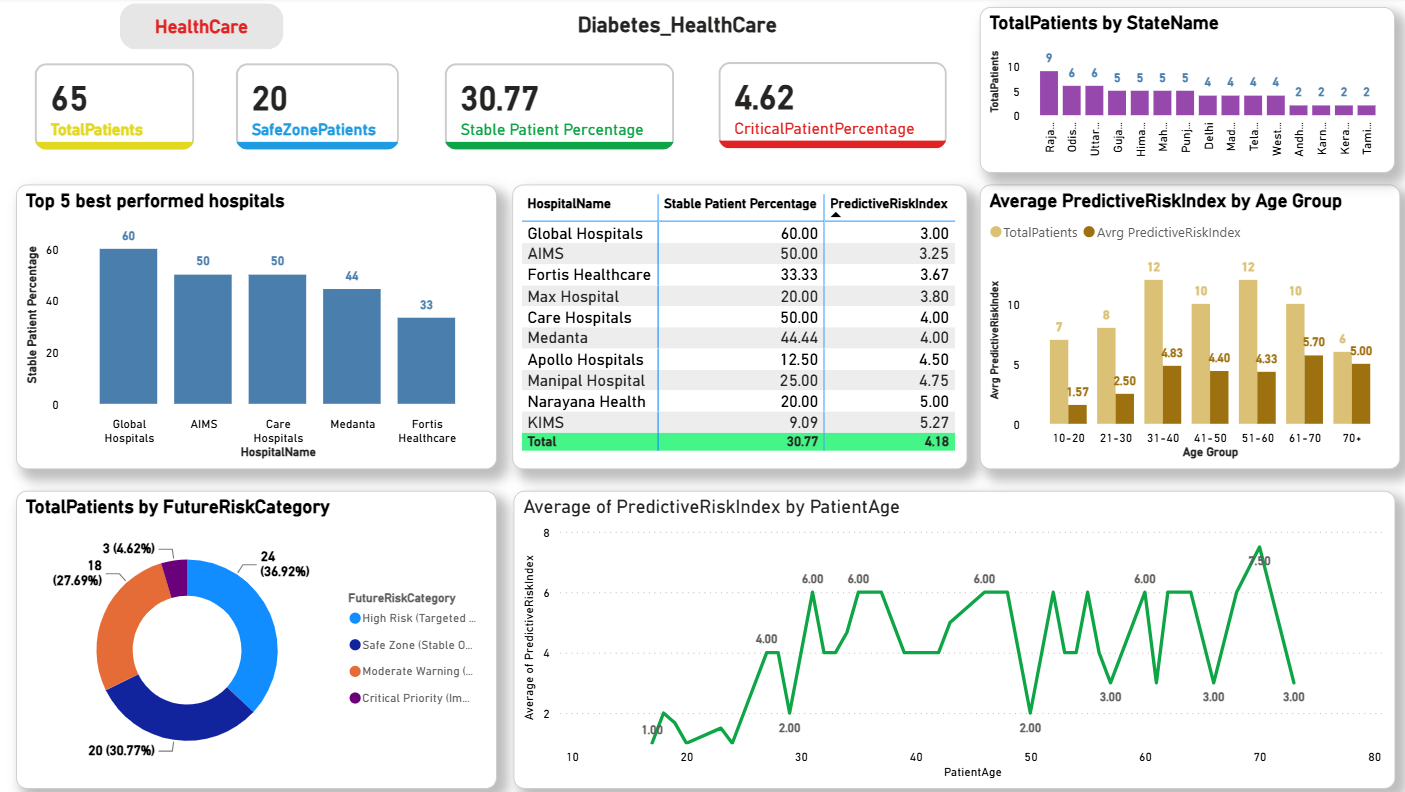

The page's visual inventory and layout, read from the dashboard file:
{"tool":"powerbi","page":{"name":"Page 1","canvas":[1280,720],"ordinal":0},"visuals":[{"type":"cardVisual","fields":{"Data":["View_KPI_To_Win_Master.StablePatientPercentage"]},"box":[392.3,42.8,241.3,112.9],"z":0},{"type":"cardVisual","fields":{"Data":["View_KPI_To_Win_Master.Critical Patient Percentage"]},"box":[639.5,41.6,240.1,112.9],"z":1},{"type":"clusteredColumnChart","title":"Top 5 best performed hospitals","fields":{"Y":["View_KPI_To_Win_Master.StablePatientPercentage"],"Category":["View_KPI_To_Win_Master.HospitalName"]},"box":[22.6,168.8,433.9,256.8],"z":2},{"type":"donutChart","fields":{"Category":["View_KPI_To_Win_Master.FutureRiskCategory"],"Y":["View_KPI_To_Win_Master.TotalPatients"]},"box":[22.6,445.8,433.9,268.6],"z":3},{"type":"lineChart","fields":{"Category":["View_KPI_To_Win_Master.PatientAge"],"Y":["Avg(View_KPI_To_Win_Master.PredictiveRiskIndex)"]},"box":[470.7,445.8,795.2,268.6],"z":4},{"type":"pivotTable","fields":{"Rows":["View_KPI_To_Win_Master.HospitalName"],"Values":["View_KPI_To_Win_Master.StablePatientPercentage","Avg(View_KPI_To_Win_Master.PredictiveRiskIndex)"]},"box":[469.5,168.8,410.1,256.8],"z":5},{"type":"textbox","box":[555.1,9.5,167.6,32.1],"z":6},{"type":"clusteredColumnChart","title":"Average PredictiveRiskIndex by Age Group","fields":{"Category":["View_KPI_To_Win_Master.Age Group"],"Y":["View_KPI_To_Win_Master.TotalPatients","Avg(View_KPI_To_Win_Master.PredictiveRiskIndex)"]},"box":[891.5,168.8,379.2,256.8],"z":7},{"type":"clusteredColumnChart","fields":{"Category":["View_KPI_To_Win_Master.StateName"],"Y":["View_KPI_To_Win_Master.TotalPatients"]},"box":[891.5,9.5,374.4,149.8],"z":8},{"type":"cardVisual","fields":{"Data":["View_KPI_To_Win_Master.TotalPatients"]},"box":[22.6,43,178.3,112.9],"z":9},{"type":"cardVisual","fields":{"Data":["View_KPI_To_Win_Master.SafeZone"]},"box":[204.5,42.8,181.9,112.9],"z":10},{"type":"shape","title":"IPD","box":[67.8,3.6,44,41.6],"z":11},{"type":"shape","title":"IPD","box":[116.5,3.6,147.4,41.6],"z":12}]}

Visuals, with their boxes in screenshot pixels (x1, y1, x2, y2), scaled from the page's 1280x720 canvas onto the 1405x792 screenshot:
cardVisual - View_KPI_To_Win_Master.StablePatientPercentage: l=431, t=47, r=695, b=171
cardVisual - View_KPI_To_Win_Master.Critical Patient Percentage: l=702, t=46, r=965, b=170
"Top 5 best performed hospitals" clusteredColumnChart: l=25, t=186, r=501, b=468
donutChart - View_KPI_To_Win_Master.FutureRiskCategory x View_KPI_To_Win_Master.TotalPatients: l=25, t=490, r=501, b=786
lineChart - View_KPI_To_Win_Master.PatientAge x Avg(View_KPI_To_Win_Master.PredictiveRiskIndex): l=517, t=490, r=1390, b=786
pivotTable - View_KPI_To_Win_Master.HospitalName x View_KPI_To_Win_Master.StablePatientPercentage: l=515, t=186, r=965, b=468
textbox: l=609, t=10, r=793, b=46
"Average PredictiveRiskIndex by Age Group" clusteredColumnChart: l=979, t=186, r=1395, b=468
clusteredColumnChart - View_KPI_To_Win_Master.StateName x View_KPI_To_Win_Master.TotalPatients: l=979, t=10, r=1390, b=175
cardVisual - View_KPI_To_Win_Master.TotalPatients: l=25, t=47, r=221, b=171
cardVisual - View_KPI_To_Win_Master.SafeZone: l=224, t=47, r=424, b=171
"IPD" shape: l=74, t=4, r=123, b=50
"IPD" shape: l=128, t=4, r=290, b=50
